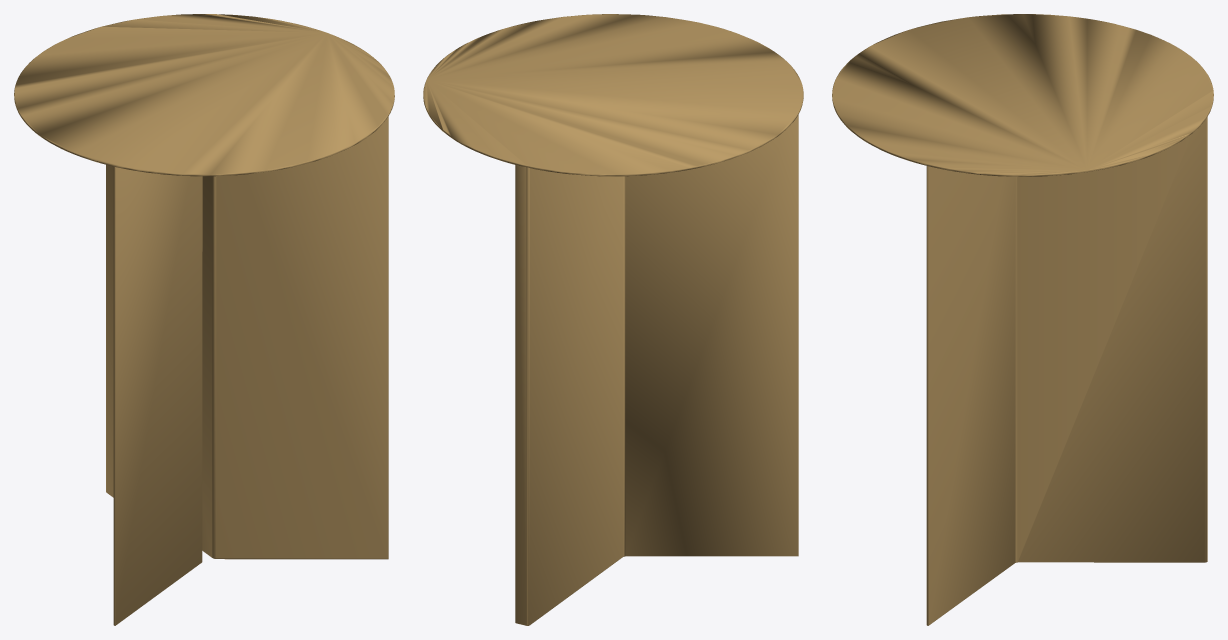
File: slit-side-table-runtime-lite.glb
3 views of the same model, side by side, from view 1: azimuth 30°, elevation 25°; view 2: azimuth 150°, elevation 25°; view 3: azimuth 270°, elevation 25° (orthographic).
Visible parts, largest first — view 1: Slit Side Table Round High; view 2: Slit Side Table Round High; view 3: Slit Side Table Round High.
Boxes of the visible parts, <box> form: Slit Side Table Round High: <box>14,14,394,625</box>; Slit Side Table Round High: <box>423,14,803,625</box>; Slit Side Table Round High: <box>832,14,1213,625</box>.
Bounding box in the file's own units: 0.3499 × 0.47 × 0.35.
